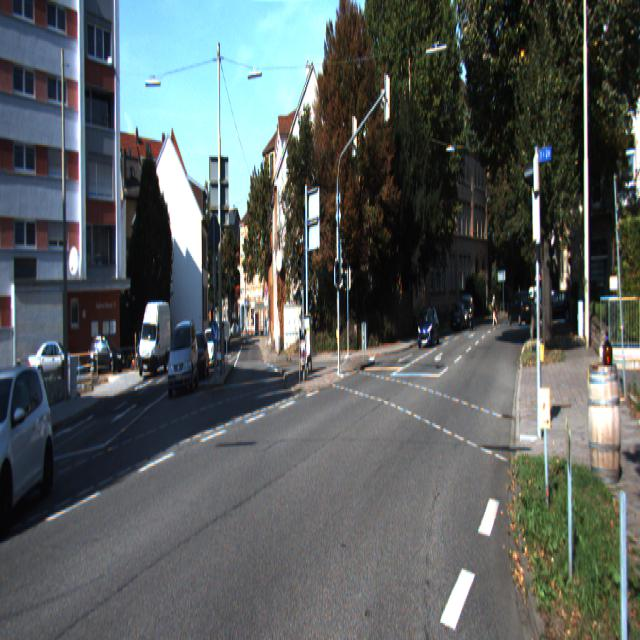Car: (0, 358, 58, 552), (138, 301, 171, 380), (168, 318, 198, 401), (27, 340, 76, 386), (417, 305, 440, 350), (467, 296, 475, 330)
